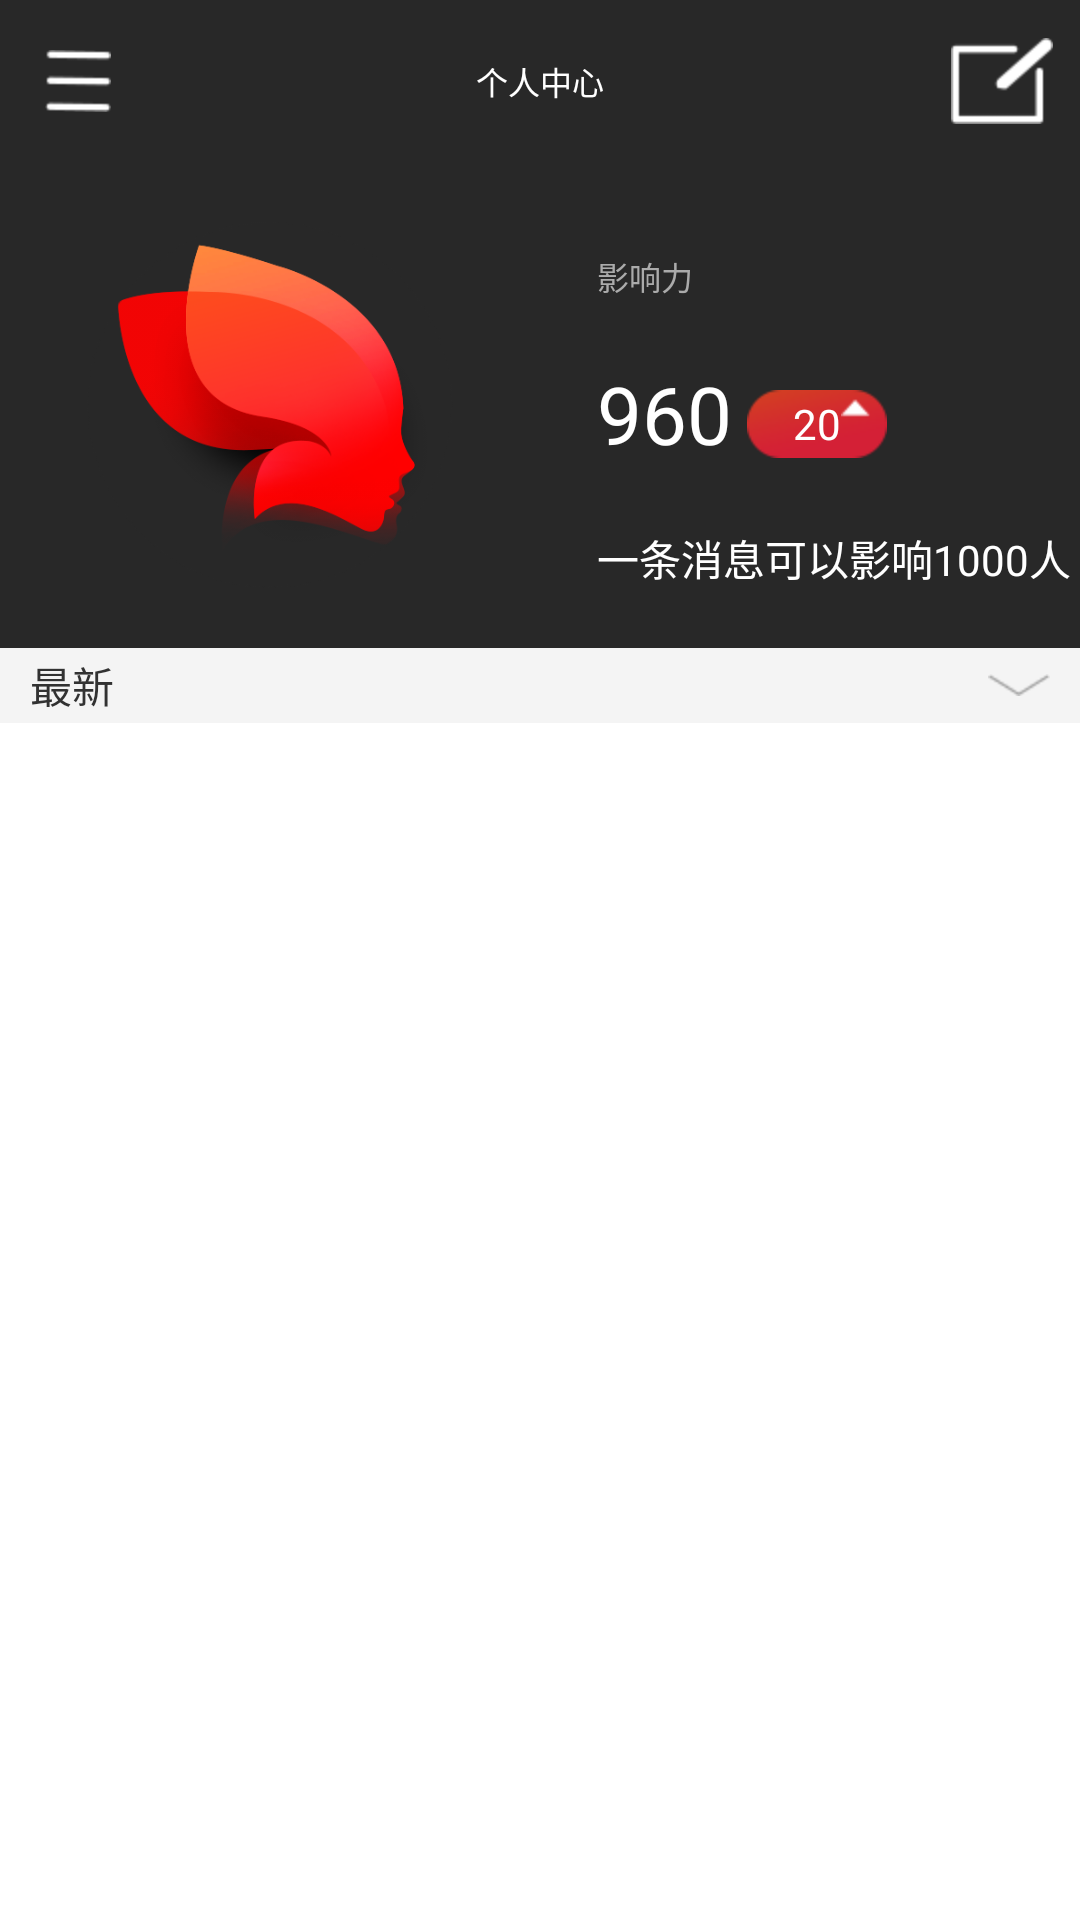

Named icons in this screenshot (1080 × 1920) and their bounding boxes, bbox(x1, y1, x2, y2):
edit: bbox(951, 38, 1053, 124)
menu: bbox(46, 50, 111, 112)
